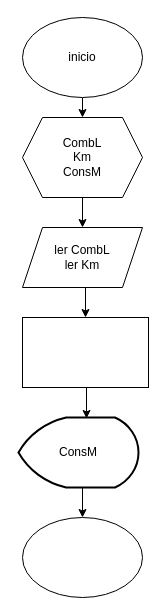
Image size: 166x615. Some labels were removed from this diagram. Each missing label, with the centre of its shape:
ConsM = Km / CombL: pixel 85 352
fim: pixel 82 557
